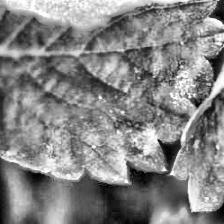Powdery Mildew Leaf: (0, 0, 224, 185), (166, 0, 223, 216)
